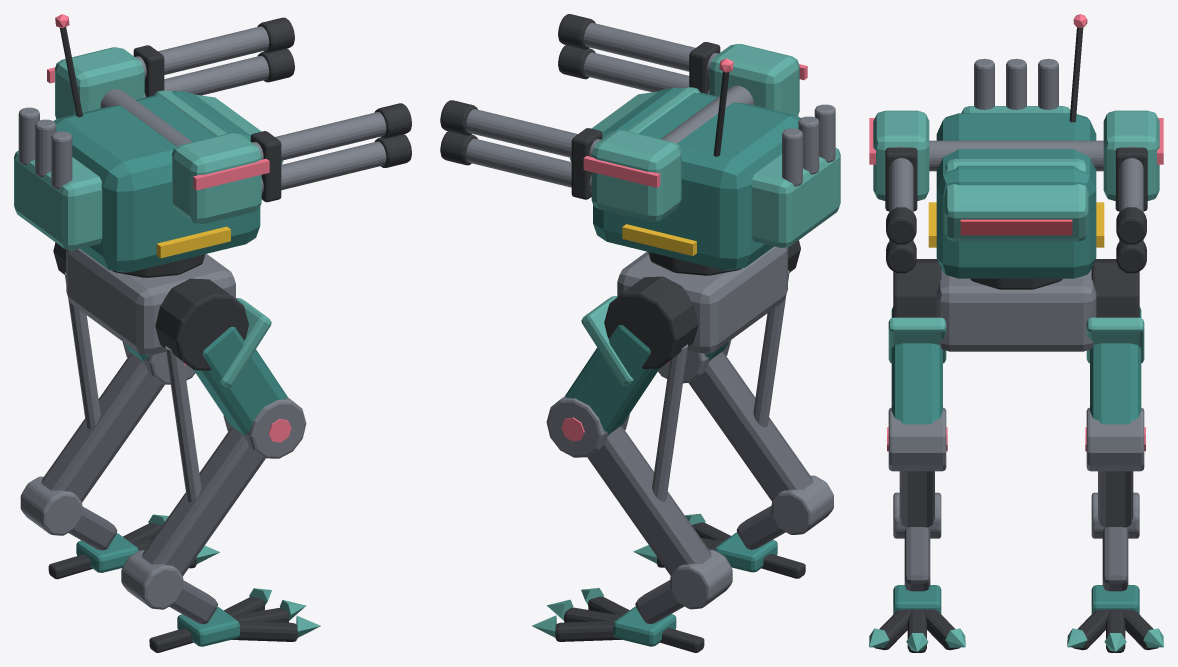
The model's file is torreta_mech.glb.
3 renders of one model, left to right at view 1: azimuth 30°, elevation 25°; view 2: azimuth 150°, elevation 25°; view 3: azimuth 270°, elevation 25°, orthographic. The views are drawn at different scales.
Parts seen in each view (by area): view 1: Base, Pivot, Barrel; view 2: Base, Pivot, Barrel; view 3: Base, Pivot, Barrel.
Boxes of the visible parts, bbox=[...] form: Base: bbox=[20, 242, 320, 652]; Pivot: bbox=[14, 14, 283, 277]; Barrel: bbox=[47, 17, 411, 224]; Base: bbox=[532, 240, 833, 652]; Pivot: bbox=[570, 58, 840, 275]; Barrel: bbox=[440, 14, 807, 221]; Base: bbox=[869, 259, 1163, 652]; Pivot: bbox=[928, 14, 1104, 289]; Barrel: bbox=[869, 110, 1163, 273].
Bounding box in the file's own units: 2.21 × 3.96 × 1.84.
Materials: 1 (1 with a texture image).
